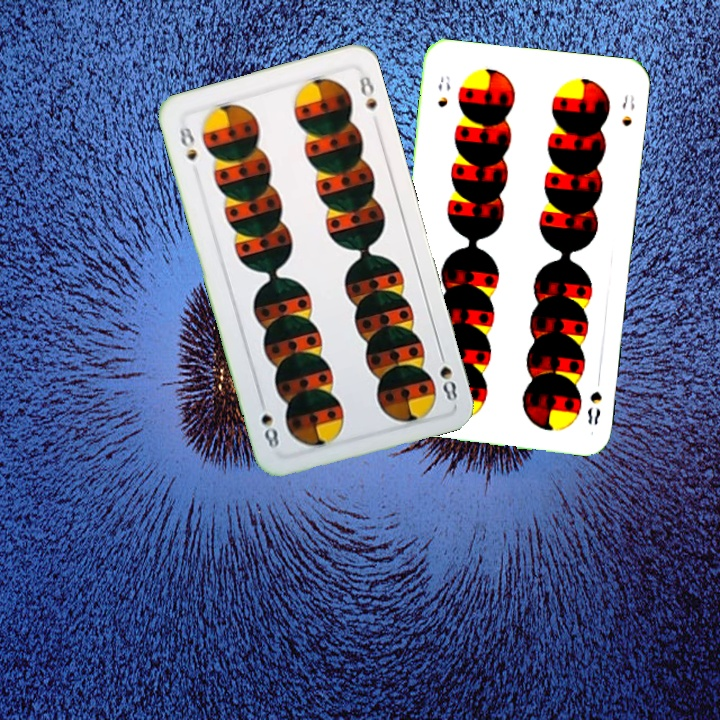S8: (432, 346, 460, 404), (175, 123, 200, 163), (583, 387, 604, 427), (433, 72, 453, 110)
